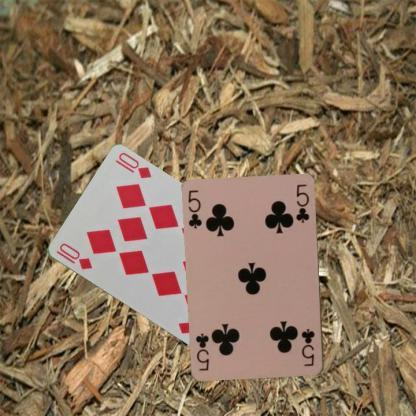10d: (53, 240, 93, 271)
5c: (186, 187, 204, 230), (298, 326, 316, 368)
